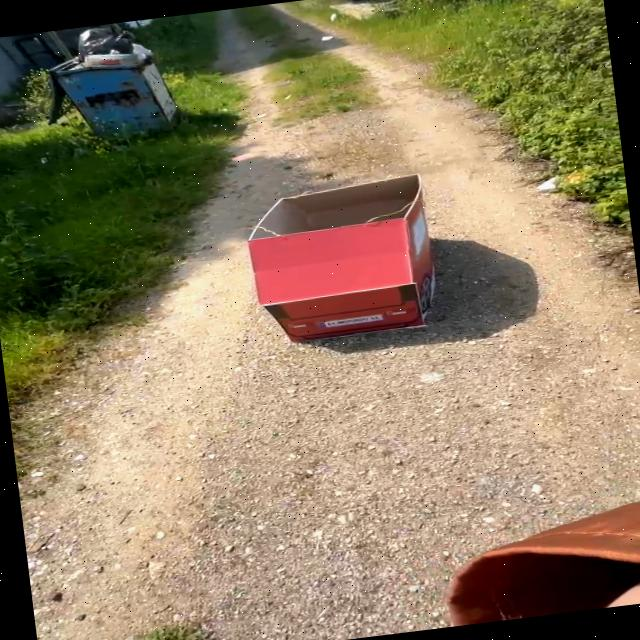red_car: (229, 167, 455, 376)
